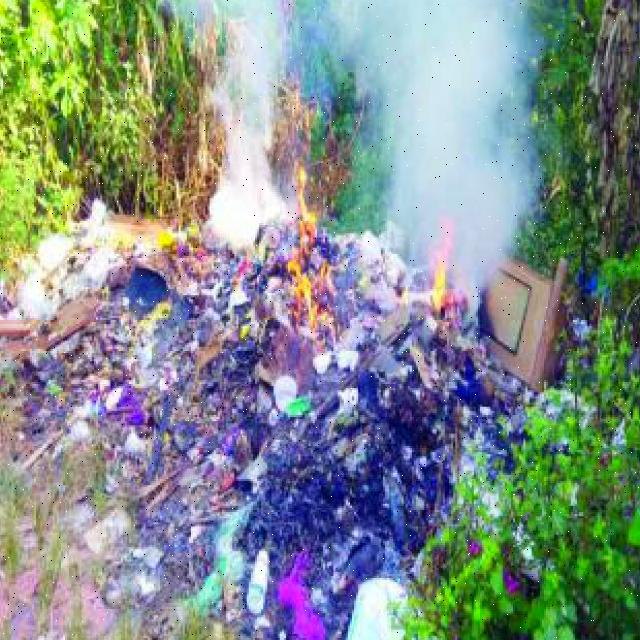fire: (280, 151, 333, 349), (428, 219, 458, 314)
smoke: (360, 0, 549, 278), (196, 0, 302, 246)
